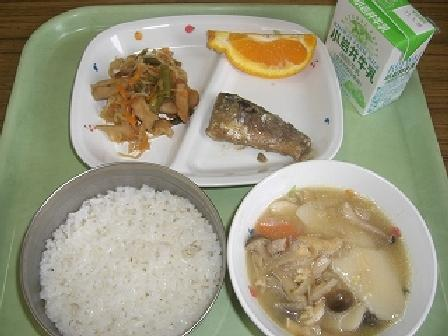Citrus: (200, 19, 319, 83)
Fish: (204, 84, 308, 172)
Milk: (315, 0, 432, 99)
Rice: (16, 165, 229, 335)
Soups: (230, 163, 432, 331)
vegetable based cooked food: (89, 53, 195, 147)
